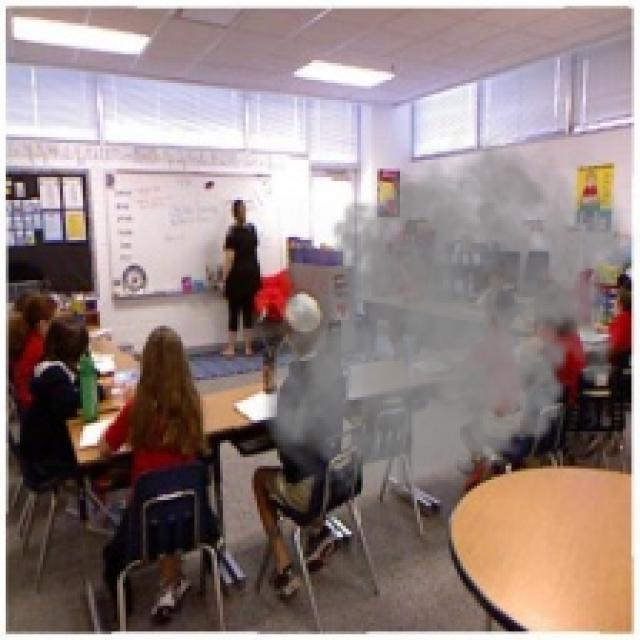Smoke: (257, 120, 637, 514)
